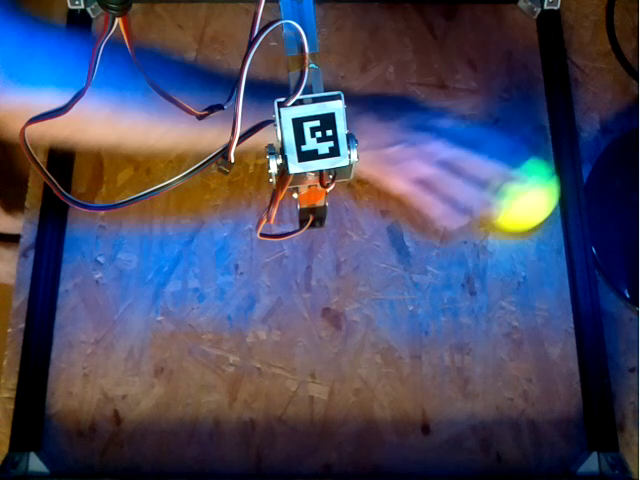tennis_ball: (489, 157, 563, 230)
